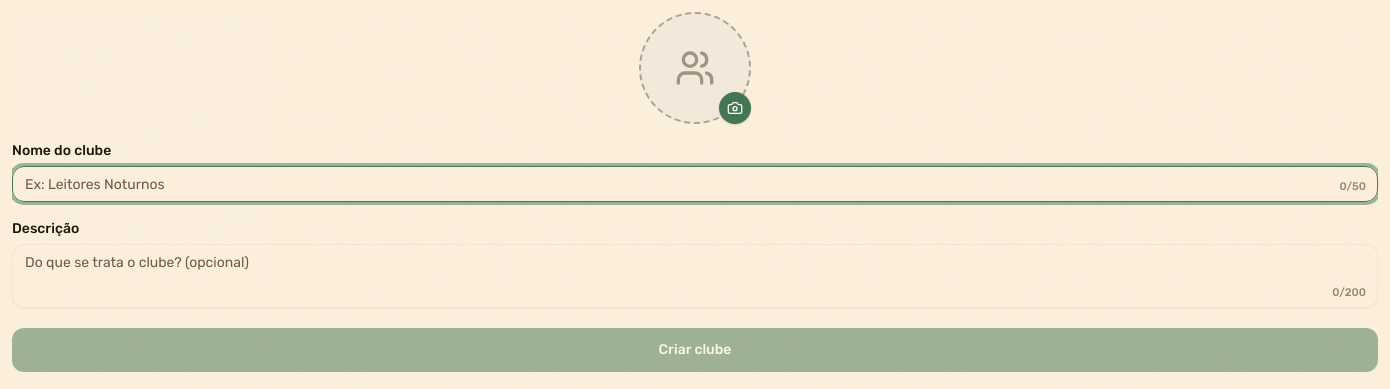
Test: CreateGroupForm › submit button is enabled when name has 2+ characters
The image size is (1390, 389).
Step 1. Type "AB" into the field labelled "Nome do clube" → coordinates (695, 184), box x1=12 y1=166 x2=1378 y2=202
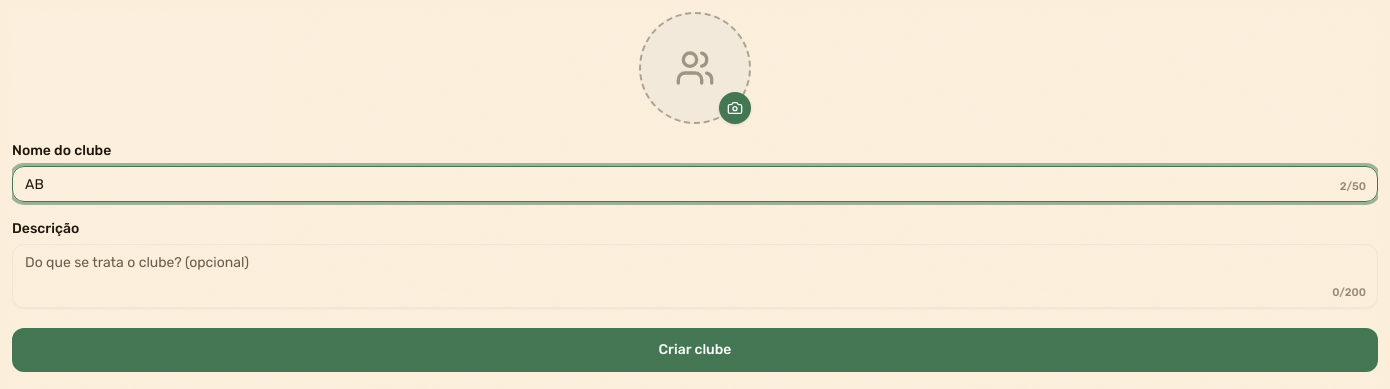
Expected: the button "Criar clube" is enabled, x1=12 y1=328 x2=1378 y2=372
